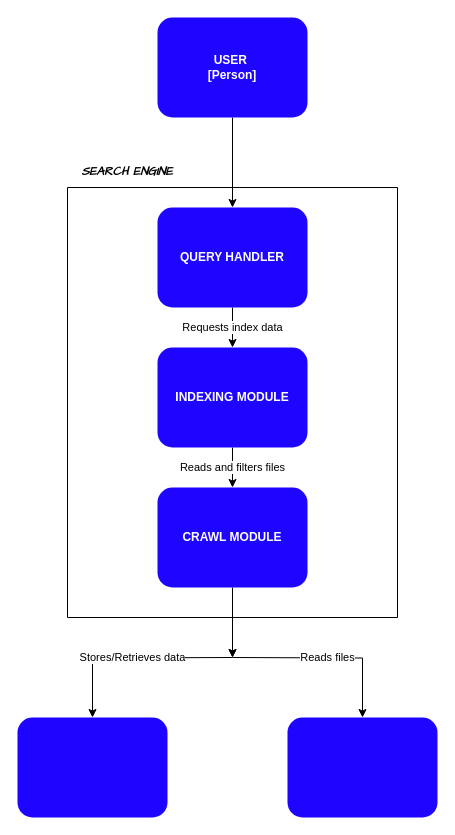
Image size: 455x835. Some labels were removed from this diagram. Here are the shapes that lost their labels. From the top down, the box of each, then its label:
(16, 716, 168, 818): POSTGRESQL DATABASE
(286, 716, 438, 818): FILE SYSTEM
